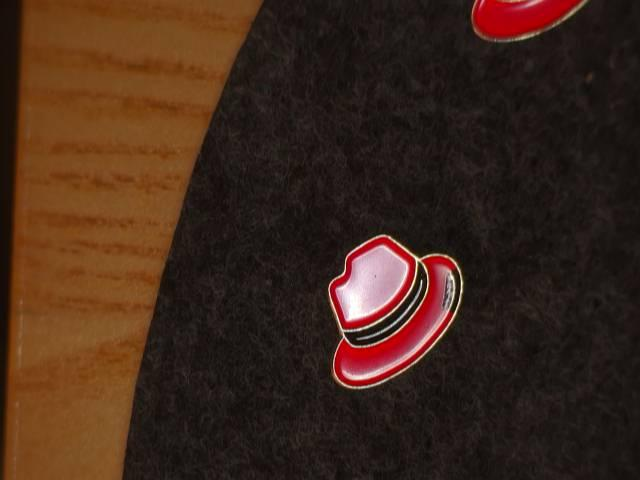Red-Hat: (308, 220, 479, 407)
Scratch: (437, 248, 471, 328)
